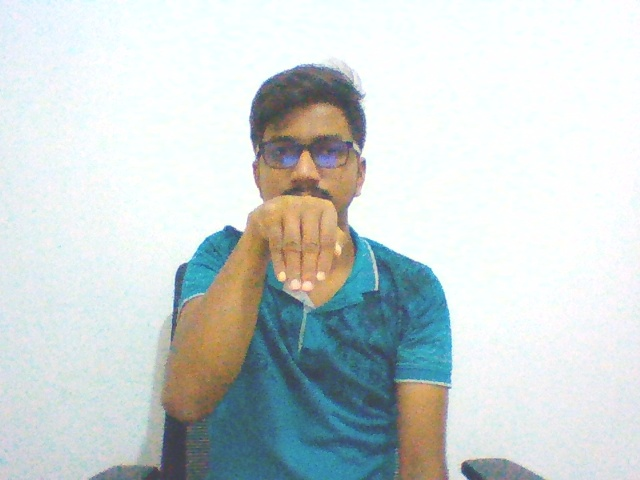Squirrel: (241, 192, 356, 301)
